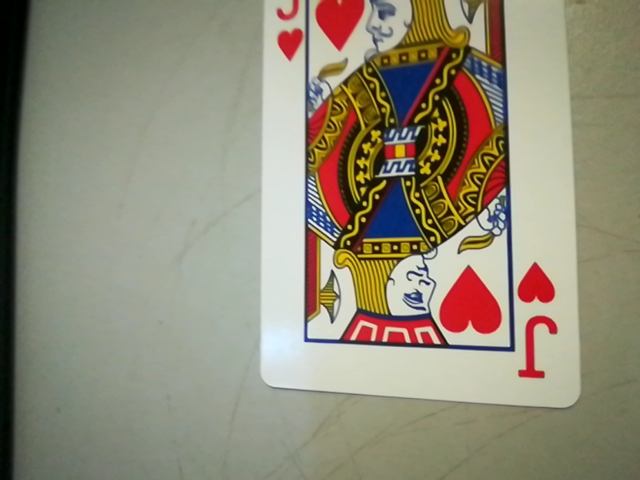hx j: (509, 259, 573, 388)
